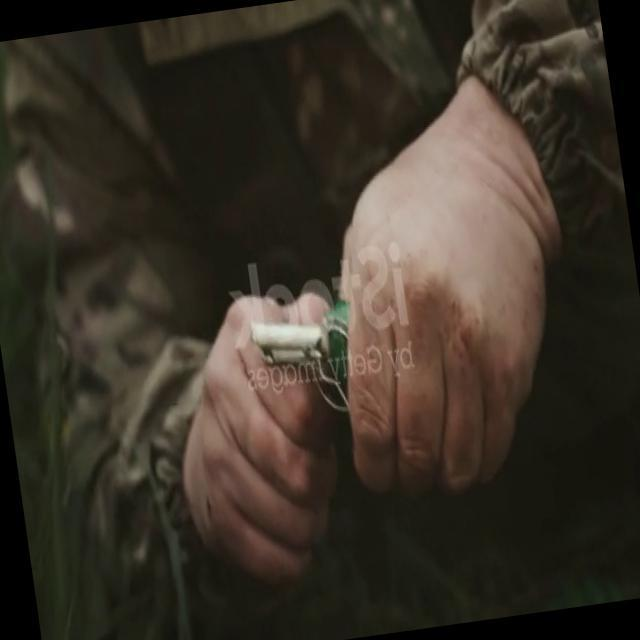grenade: (245, 272, 363, 412)
